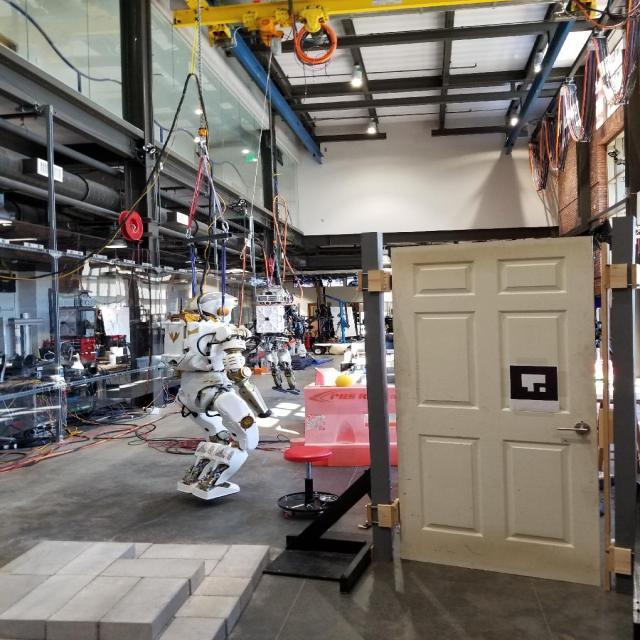door: (385, 233, 606, 592), (556, 419, 592, 436)
